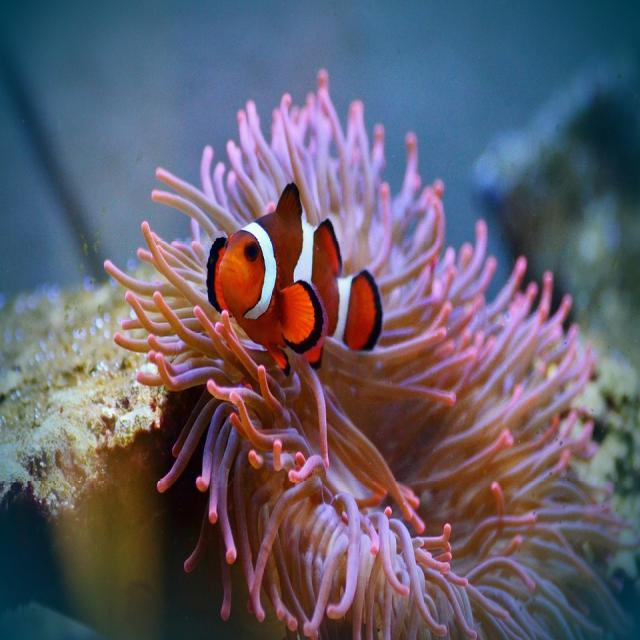ClownFish: (210, 176, 388, 385)
